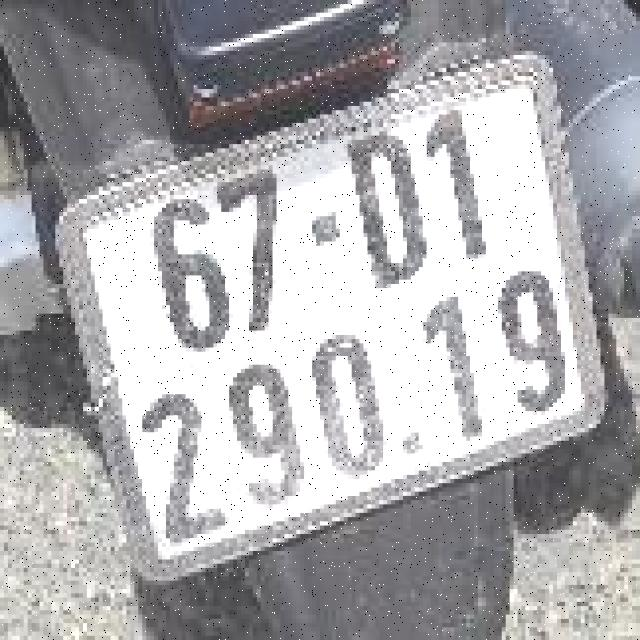0: (297, 319, 395, 492)
1: (405, 286, 494, 455), (419, 100, 496, 276)
2: (124, 376, 236, 554)
6: (135, 185, 242, 364)
7: (211, 162, 313, 341)
9: (213, 349, 317, 520), (481, 255, 575, 431)
D: (335, 122, 439, 300)
